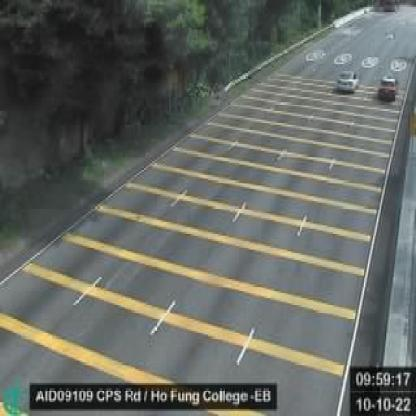Car: (336, 69, 360, 93), (379, 72, 399, 100)
